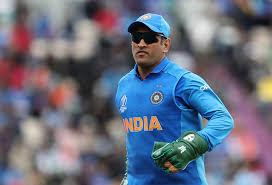cap: (125, 9, 173, 37)
sunglasses: (129, 33, 161, 46)
